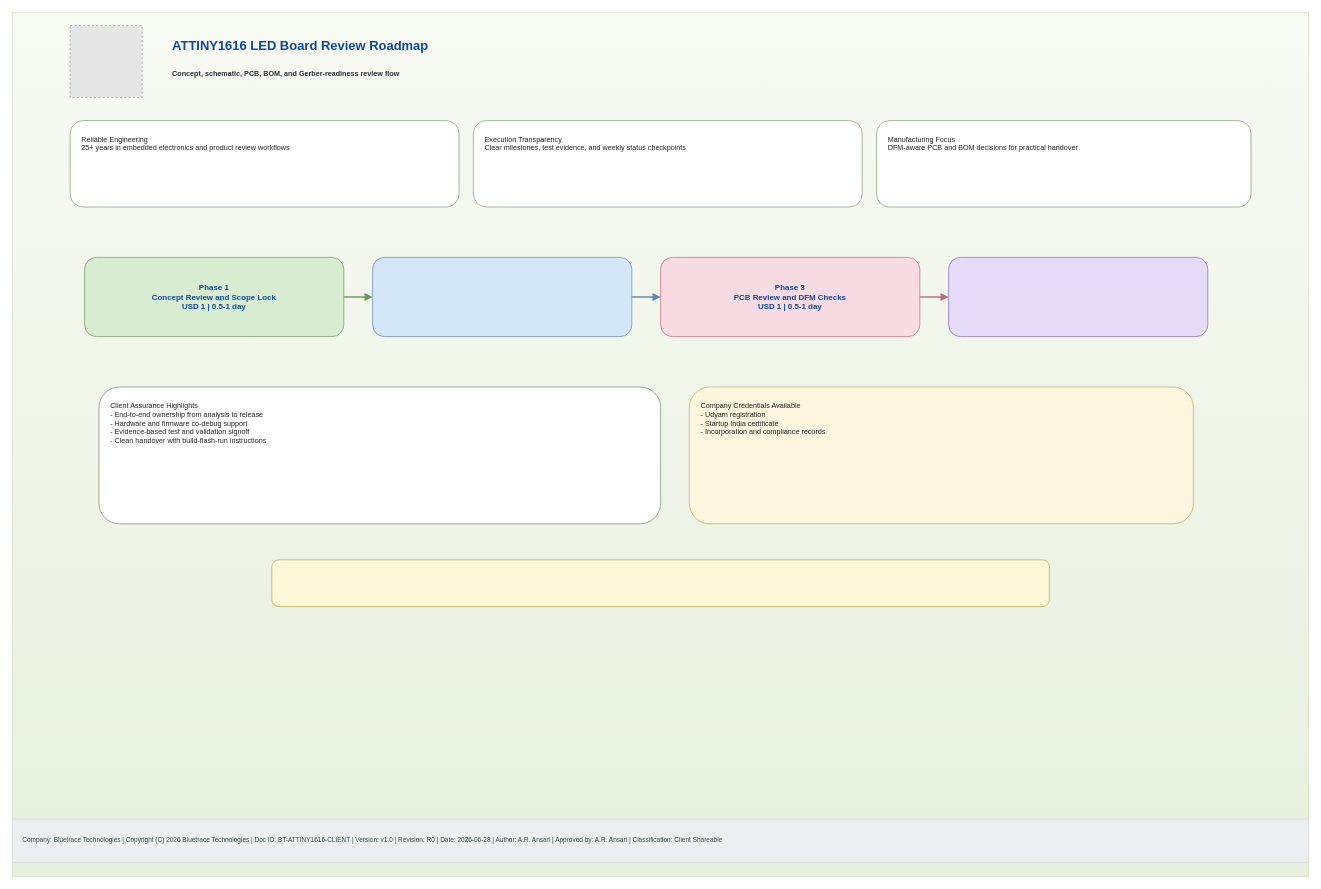
The diagram is 1321 pixels wide and 889 high, and some of its shapes have lost their labels. Grey dashed boxes stand in for pictures. Each missing label, with the box of its shape:
Estimated Overall Timeline: 2 to 4 days: (271, 559, 1049, 607)
Phase 2 Schematic and BOM Review USD 2 | 1 day: (372, 257, 632, 337)
Phase 4 Final Package and Gerber Readiness USD 1 | 0.5 day: (948, 257, 1208, 337)
